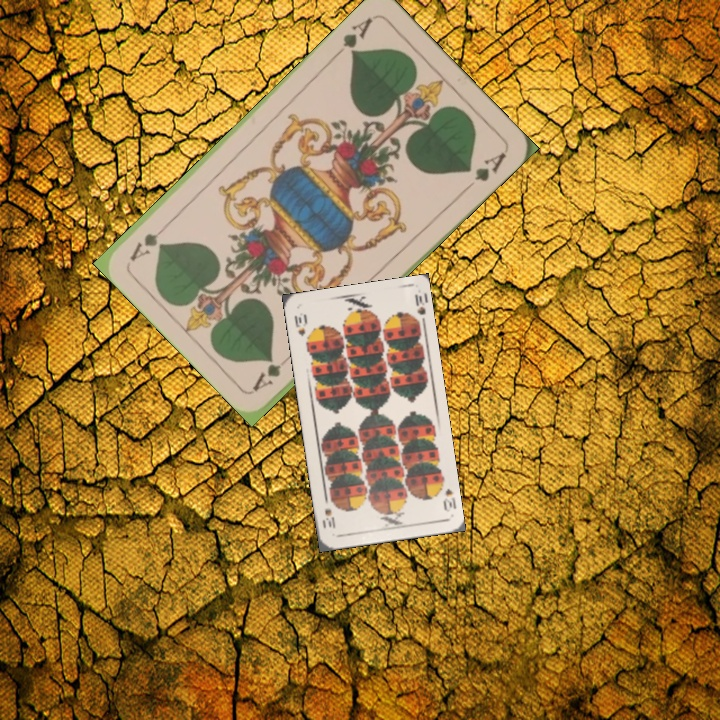GA: (248, 348, 297, 394), (331, 13, 376, 60)
S10: (435, 476, 458, 514), (290, 310, 309, 339)
